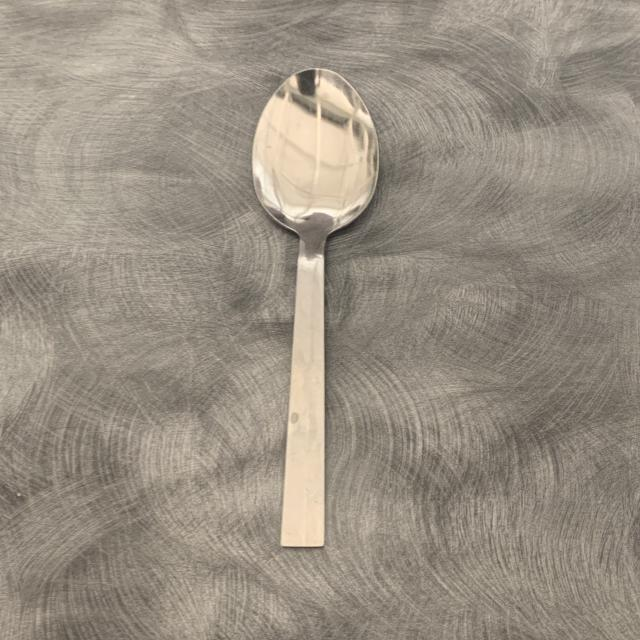fork: (225, 59, 394, 590)
